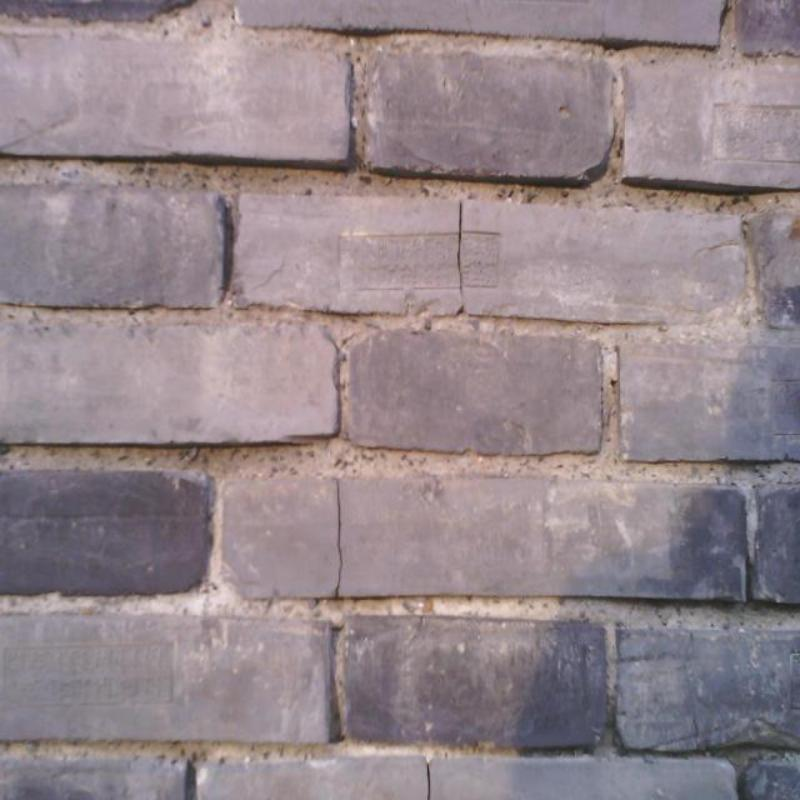crack: (335, 480, 343, 600), (456, 203, 462, 296), (427, 763, 430, 800)
